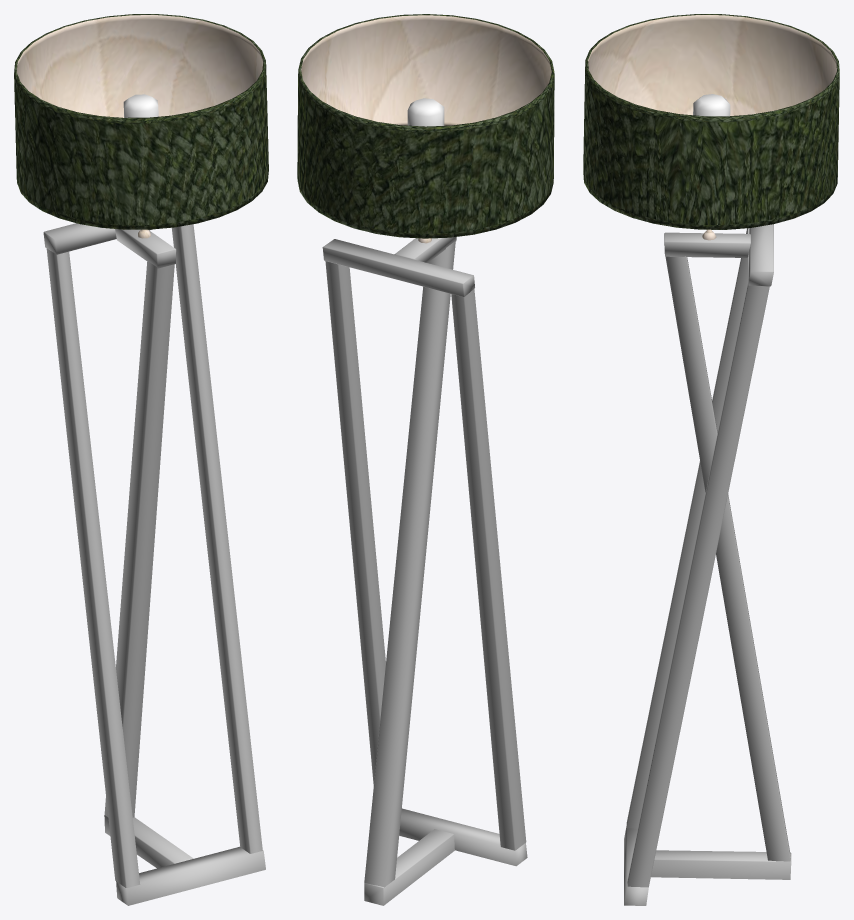
Rendered from FloorLampClean.fbx.
3 views of the same model, side by side, from view 1: azimuth 30°, elevation 25°; view 2: azimuth 150°, elevation 25°; view 3: azimuth 270°, elevation 25° (orthographic).
Visible parts, largest first — view 1: Floor_Lamp_CLEAN; view 2: Floor_Lamp_CLEAN; view 3: Floor_Lamp_CLEAN.
Boxes of the visible parts, bbox=[...] form: Floor_Lamp_CLEAN: bbox=[14, 14, 268, 905]; Floor_Lamp_CLEAN: bbox=[297, 14, 554, 905]; Floor_Lamp_CLEAN: bbox=[583, 14, 839, 905].
Size of the model in its own units: 52.31 by 181 by 52.31.
